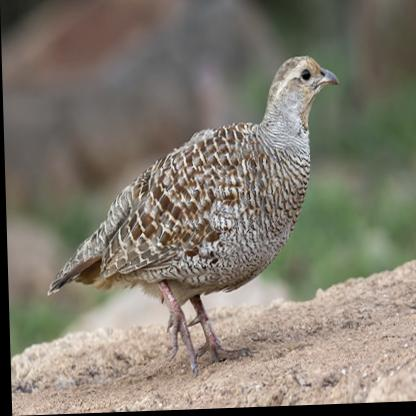Burung: (41, 56, 347, 384)
